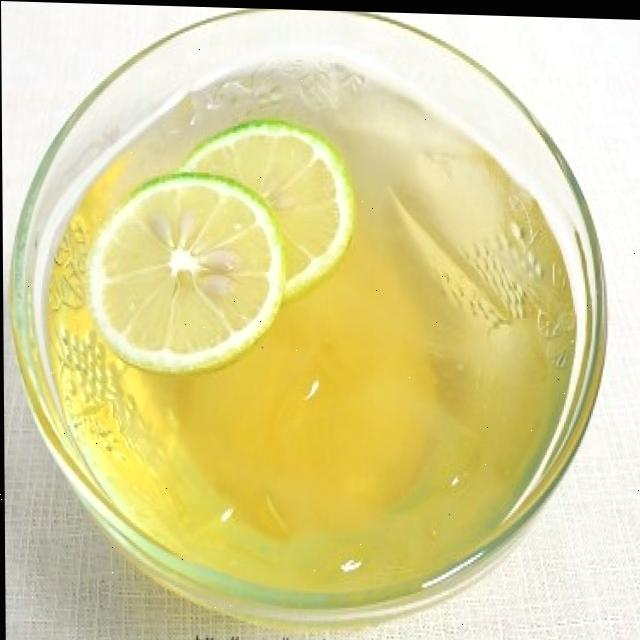蛋糕甜品: (0, 11, 613, 619)
